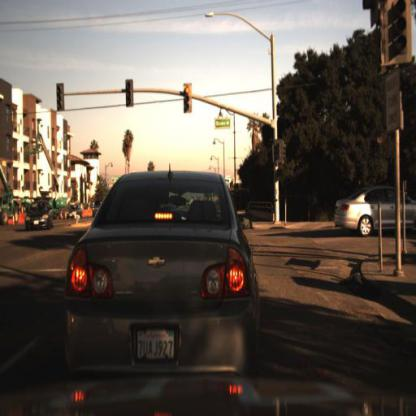car: (50, 168, 276, 412), (330, 185, 416, 242), (20, 191, 58, 238), (63, 201, 86, 222)
trafficLight: (381, 1, 416, 77), (183, 82, 193, 117), (55, 84, 66, 111)
trafficLight-Red: (274, 136, 285, 167), (125, 78, 135, 109)
